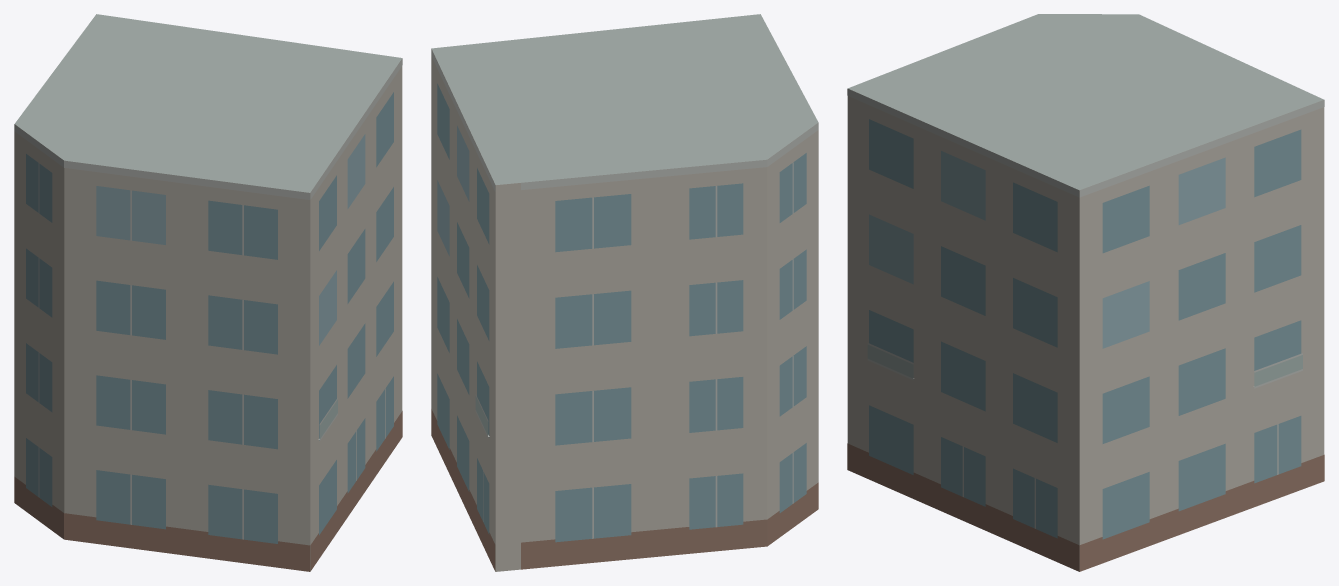
File: survey-upis-32856441.glb
The picture shows the model from 3 angles, left to right: view 1: azimuth 30°, elevation 25°; view 2: azimuth 150°, elevation 25°; view 3: azimuth 270°, elevation 25°; orthographic projection. The views are drawn at different scales.
Parts seen in each view (by area): view 1: survey-upis-32856441.tmp; view 2: survey-upis-32856441.tmp; view 3: survey-upis-32856441.tmp.
Boxes of the visible parts, x1,y1,x2,y2 form: survey-upis-32856441.tmp: [14, 14, 402, 571]; survey-upis-32856441.tmp: [431, 14, 818, 571]; survey-upis-32856441.tmp: [847, 14, 1324, 571].
Size of the model in its own units: 12.7 by 12.8 by 14.5.
